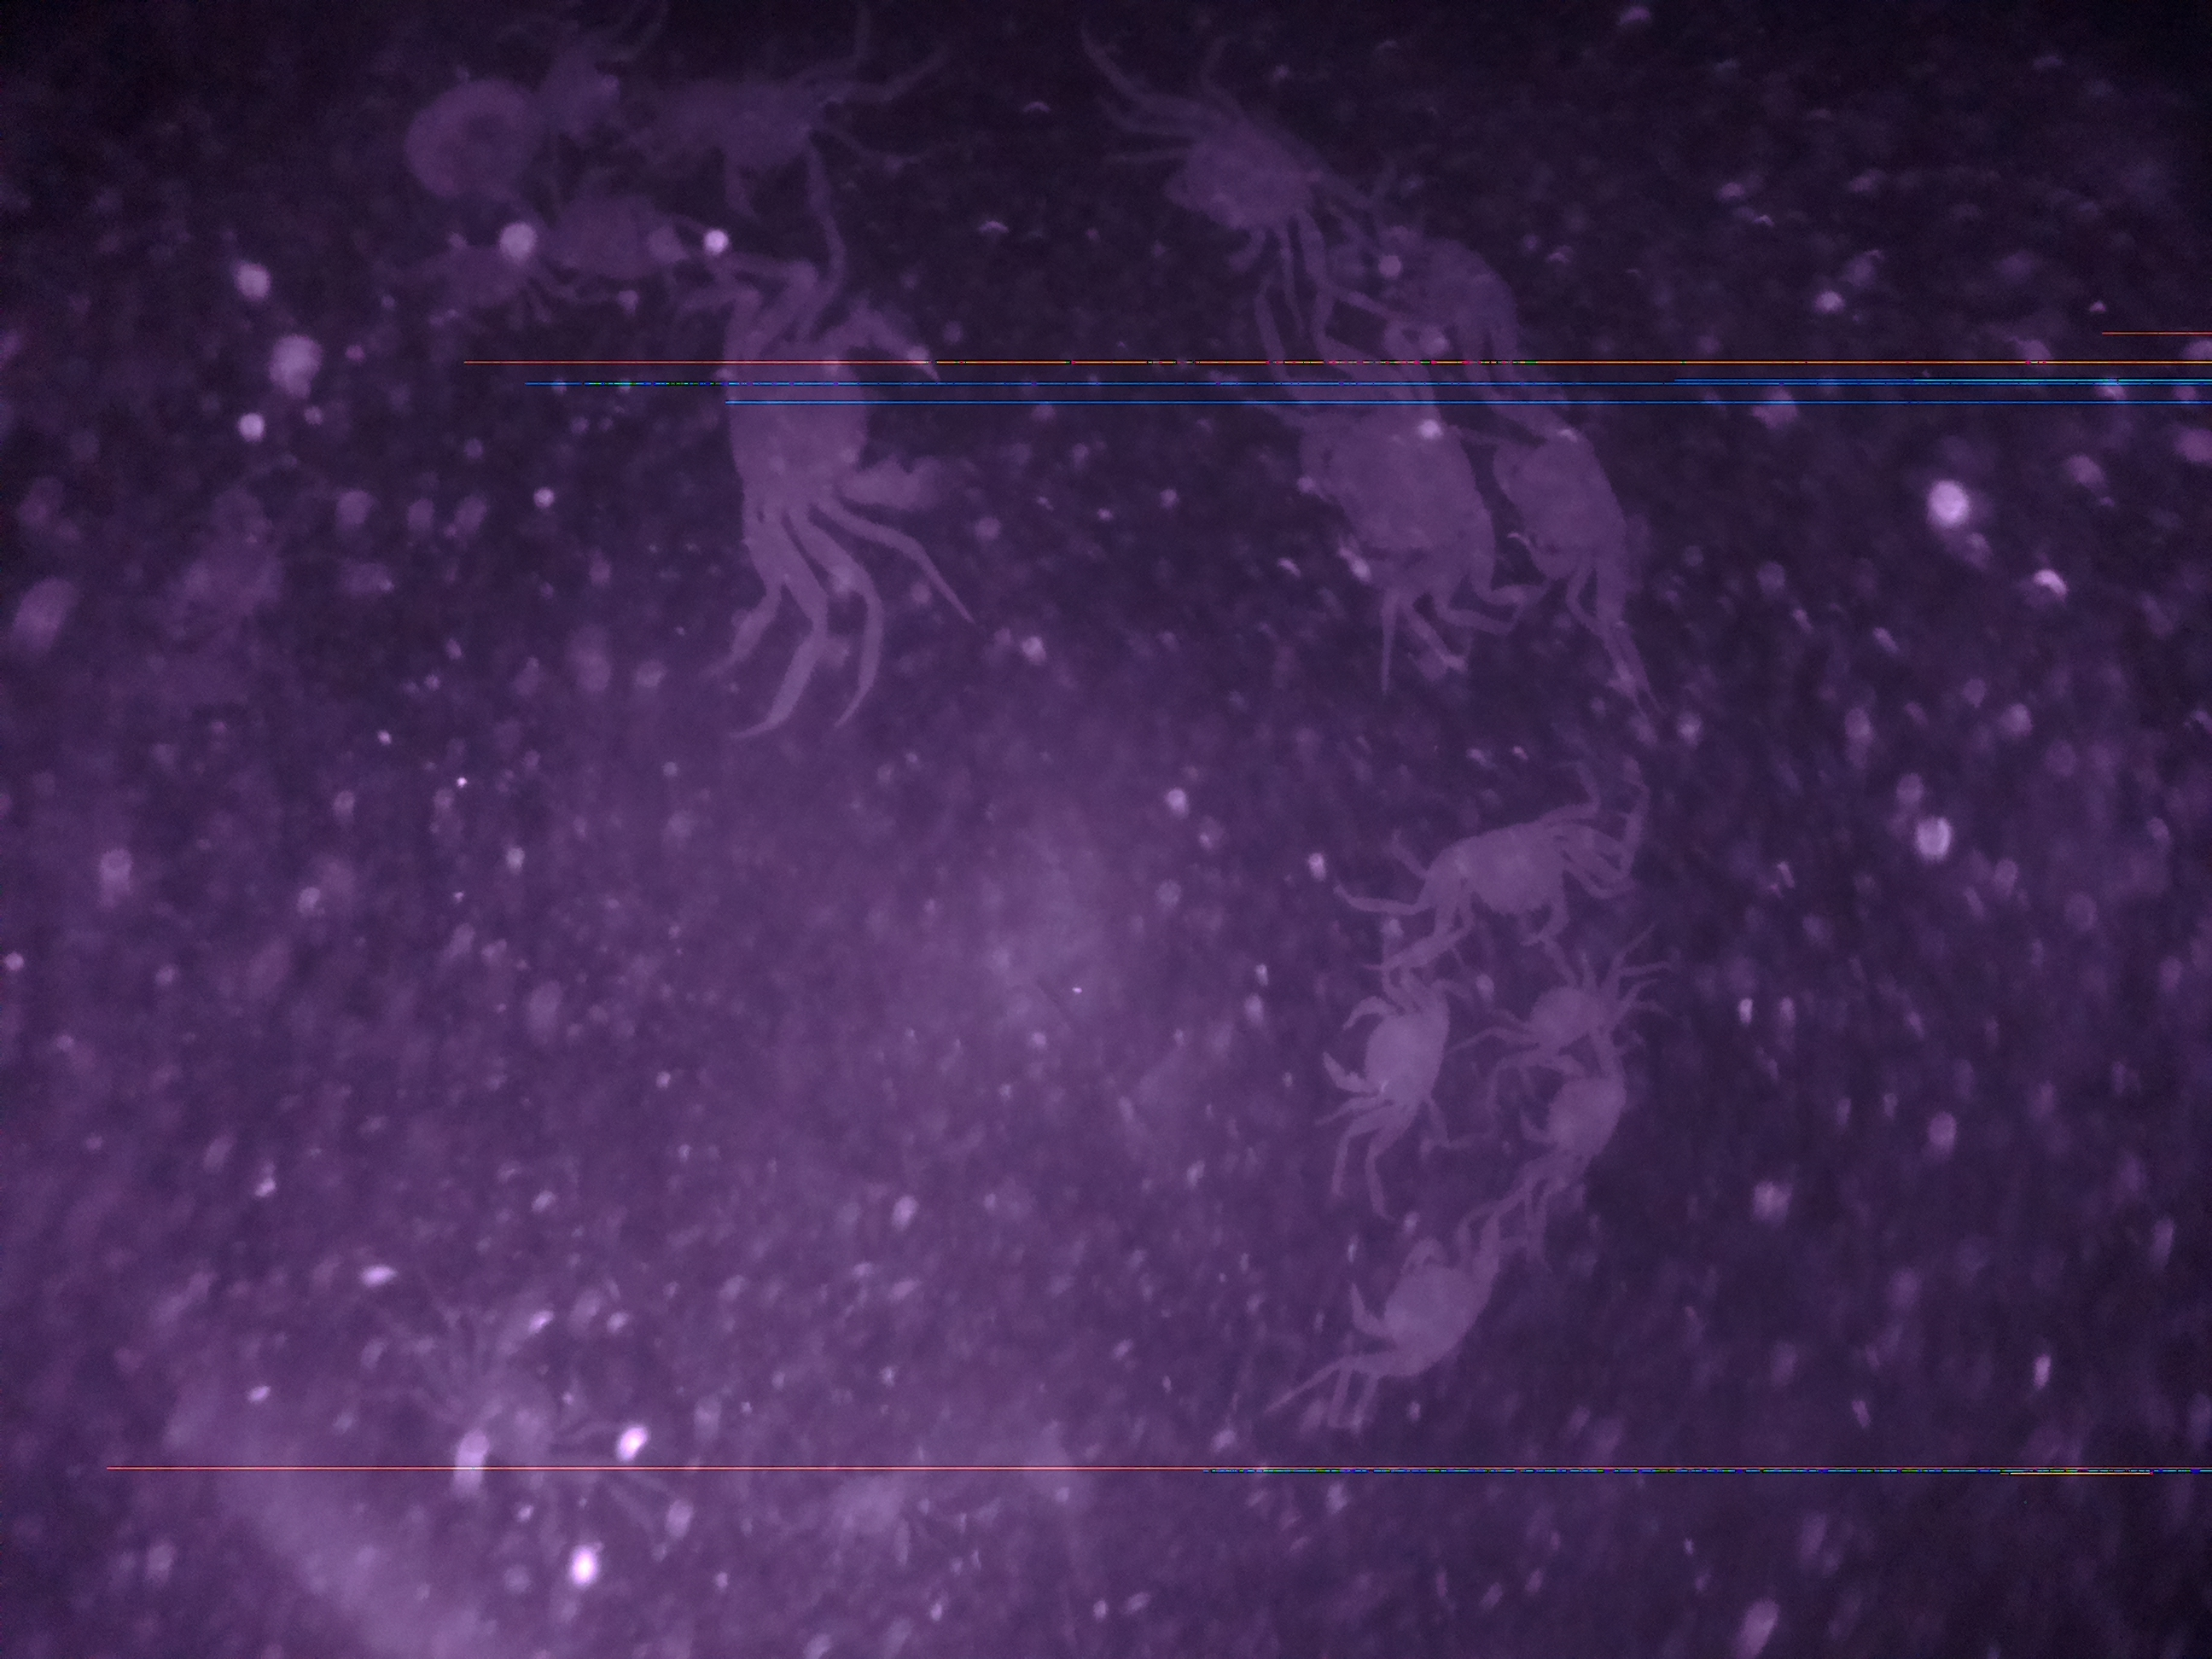Crab: (1146, 73, 1357, 272), (1367, 788, 1629, 945), (1482, 413, 1641, 624), (1343, 1222, 1514, 1387), (1305, 979, 1470, 1148), (1512, 945, 1651, 1089), (1512, 1028, 1630, 1195)
